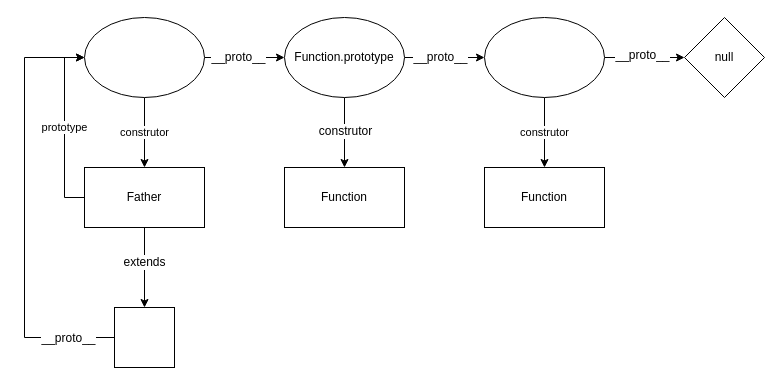
Some shapes in this 782 by 385 pixel diagram are drawn without their labels. Each missing label, with the centre of its shape:
"Father.prototype" belongs at point 144,57.
"Object.prototype" belongs at point 544,57.
"Son" belongs at point 144,337.
